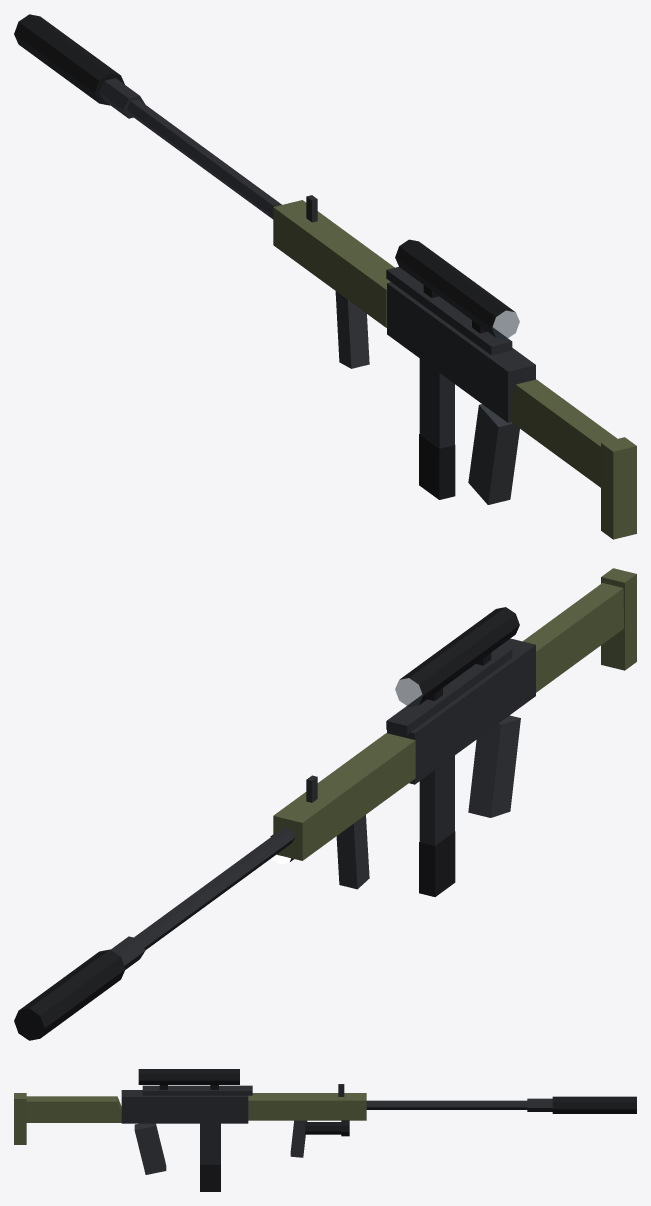
The model's file is w_marksman.glb.
3 views of the same model, one above another, from view 1: azimuth 30°, elevation 25°; view 2: azimuth 150°, elevation 25°; view 3: azimuth 270°, elevation 25° (orthographic). The views are drawn at different scales.
Parts seen in each view (by area): view 1: w_marksman, w_marksman_att_suppressor, w_marksman_att_grip, w_marksman_att_extmag; view 2: w_marksman, w_marksman_att_suppressor, w_marksman_att_extmag, w_marksman_att_grip; view 3: w_marksman, w_marksman_att_suppressor, w_marksman_att_flashlight, w_marksman_att_extmag, w_marksman_att_grip.
Part boxes in pixels (x1,y1,x2,y2): w_marksman: (99,78,636,539); w_marksman_att_suppressor: (14,14,124,105); w_marksman_att_grip: (335,291,369,368); w_marksman_att_extmag: (419,434,455,499); w_marksman: (110,568,636,969); w_marksman_att_suppressor: (14,949,125,1040); w_marksman_att_extmag: (419,831,455,896); w_marksman_att_grip: (336,815,369,889); w_marksman: (14,1069,552,1174); w_marksman_att_suppressor: (552,1096,636,1113); w_marksman_att_flashlight: (305,1120,349,1136); w_marksman_att_extmag: (200,1165,220,1191); w_marksman_att_grip: (290,1120,307,1157).
Size of the model in its own units: 0.077 by 0.315 by 1.47.
